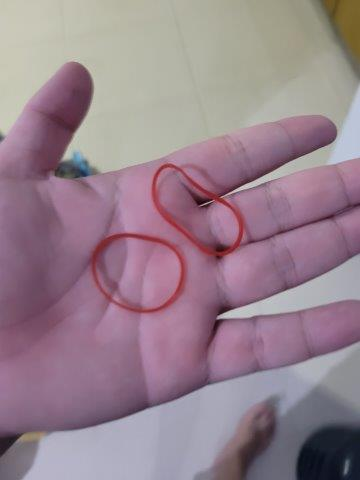karet: (150, 164, 245, 255), (91, 233, 187, 315)
